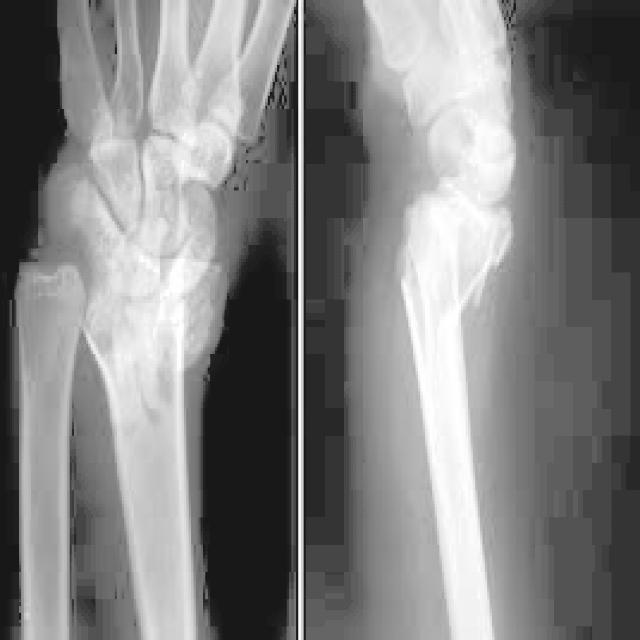Comminuted Fracture: (12, 256, 102, 339)
